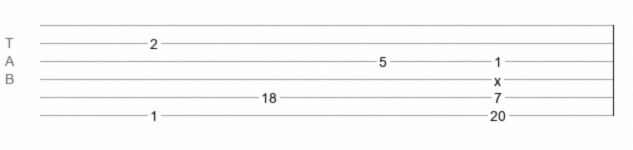1: (150, 108, 158, 118), (494, 54, 502, 64)
18: (261, 90, 277, 100)
2: (150, 36, 158, 46)
20: (490, 108, 506, 118)
5: (379, 54, 387, 64)
7: (494, 90, 502, 100)
x: (494, 73, 501, 81)
